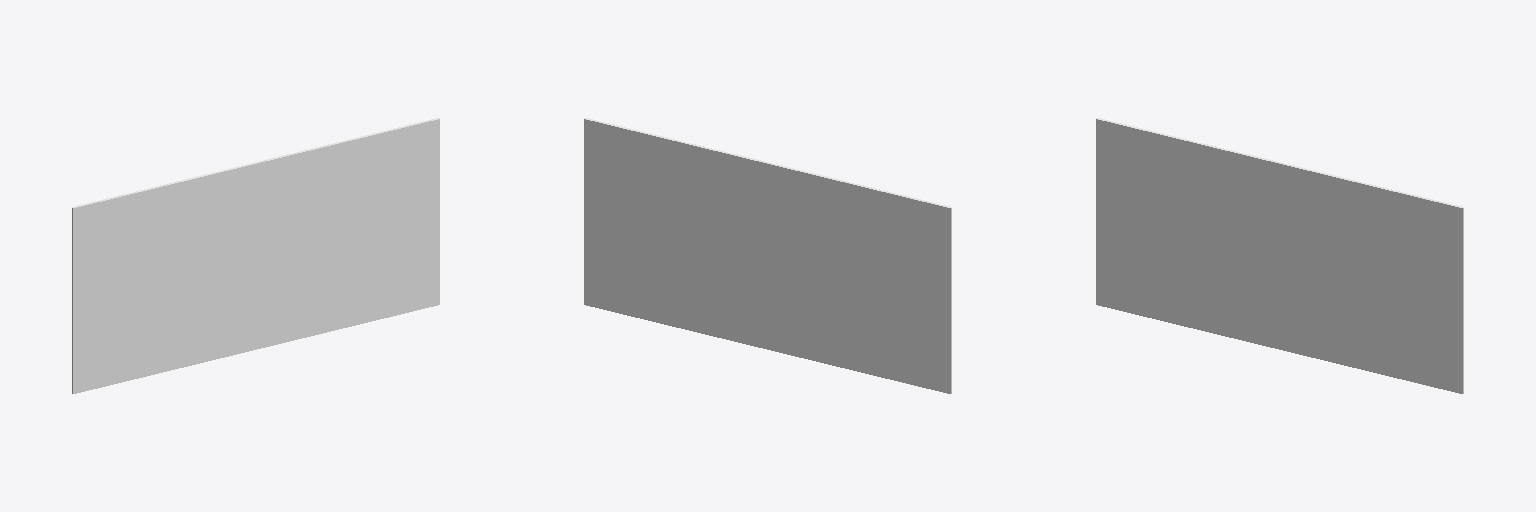
Rendered from picture_1.obj.
The picture shows the model from 3 angles: view 1: azimuth 30°, elevation 25°; view 2: azimuth 150°, elevation 25°; view 3: azimuth 330°, elevation 25°; orthographic projection.
Visible parts, largest first — view 1: picture_1; view 2: picture_1; view 3: picture_1.
Part boxes in pixels (x1,y1,x2,y2): picture_1: (72,118,439,393); picture_1: (584,118,951,393); picture_1: (1096,118,1463,393).
Size of the model in its own units: 126 by 61 by 1.